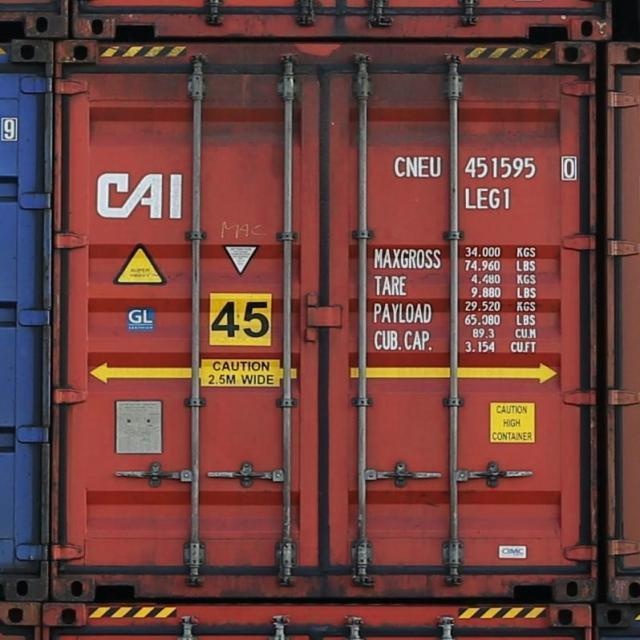ISO: (466, 187, 516, 210)
container_number: (396, 153, 578, 182)
